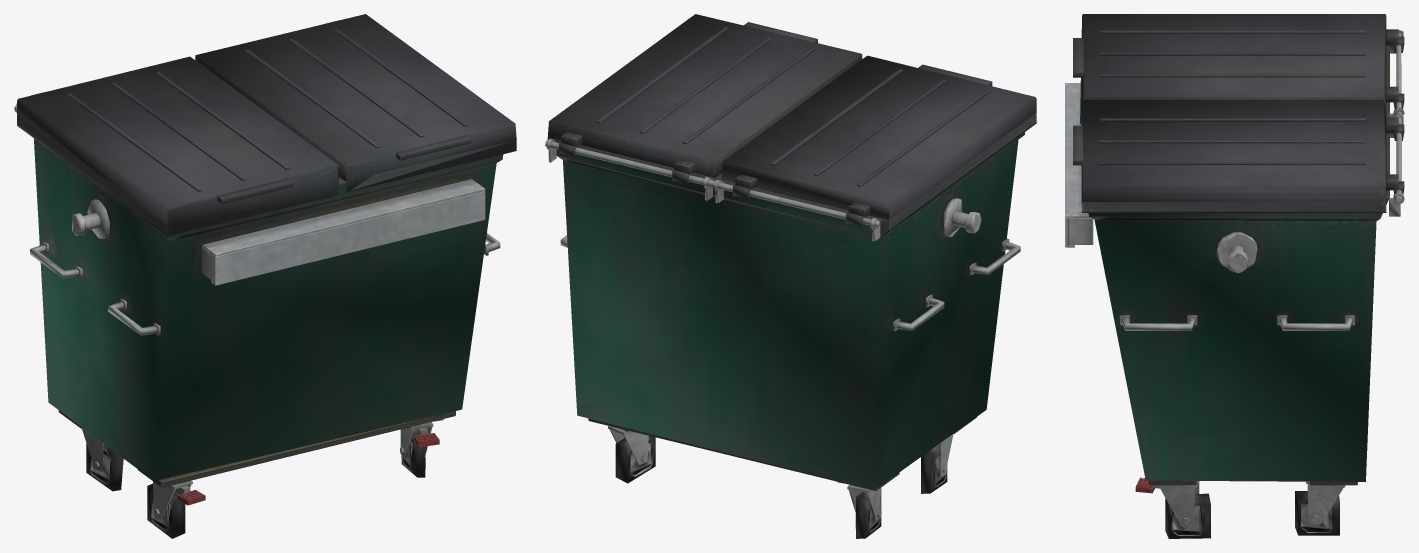
Rendered from g3-dumpster-lite.glb.
3 views of the same model, side by side, from view 1: azimuth 30°, elevation 25°; view 2: azimuth 150°, elevation 25°; view 3: azimuth 270°, elevation 25° (orthographic). The views are drawn at different scales.
Parts seen in each view (by area): view 1: dumpster_body; view 2: dumpster_body; view 3: dumpster_body.
Part boxes in pixels (<box>): dumpster_body: <box>14,14,516,538</box>; dumpster_body: <box>545,14,1036,538</box>; dumpster_body: <box>1065,14,1404,538</box>.
Size of the model in its own units: 1.38 by 1.31 by 1.05.
Materials: 1 (1 with a texture image).
